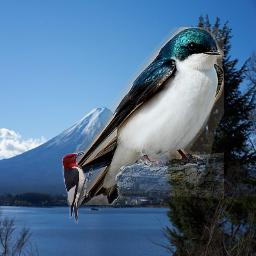Swallow: (67, 27, 224, 205)
Woodpecker: (62, 151, 93, 224)
